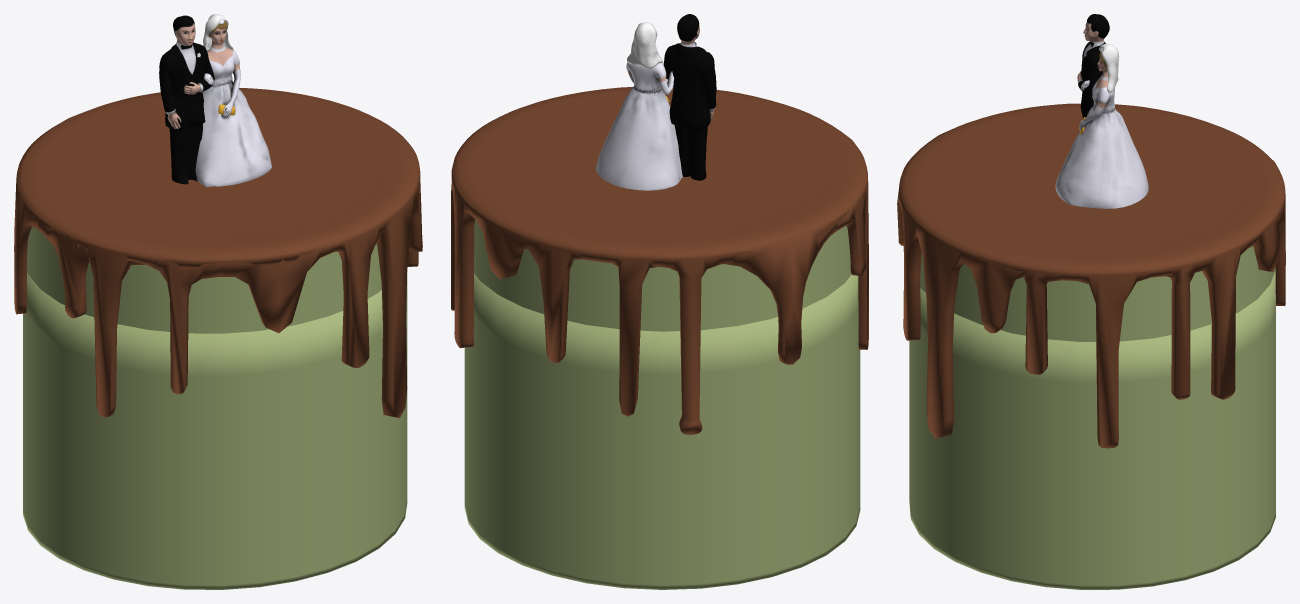
Rendered from 1-tier-pistage-ganache-bridegroom.glb.
3 views of the same model, side by side, from view 1: azimuth 30°, elevation 25°; view 2: azimuth 150°, elevation 25°; view 3: azimuth 270°, elevation 25° (orthographic). The views are drawn at different scales.
Parts seen in each view (by area): view 1: Cylinder.019, tHE ICING, 13501_Cake_Topper_Bride_Groom_v1_L1.004; view 2: Cylinder.019, tHE ICING, 13501_Cake_Topper_Bride_Groom_v1_L1.004; view 3: Cylinder.019, tHE ICING, 13501_Cake_Topper_Bride_Groom_v1_L1.004.
Part boxes in pixels (<box>): Cylinder.019: <box>23,226,407,589</box>; tHE ICING: <box>14,88,422,417</box>; 13501_Cake_Topper_Bride_Groom_v1_L1.004: <box>159,14,271,187</box>; Cylinder.019: <box>464,219,860,589</box>; tHE ICING: <box>451,87,868,434</box>; 13501_Cake_Topper_Bride_Groom_v1_L1.004: <box>595,14,716,190</box>; Cylinder.019: <box>909,246,1275,589</box>; tHE ICING: <box>897,103,1285,448</box>; 13501_Cake_Topper_Bride_Groom_v1_L1.004: <box>1055,14,1148,208</box>.
Bounding box in the file's own units: 2.8 × 3.7 × 2.71.
3 materials, 1 textured.
